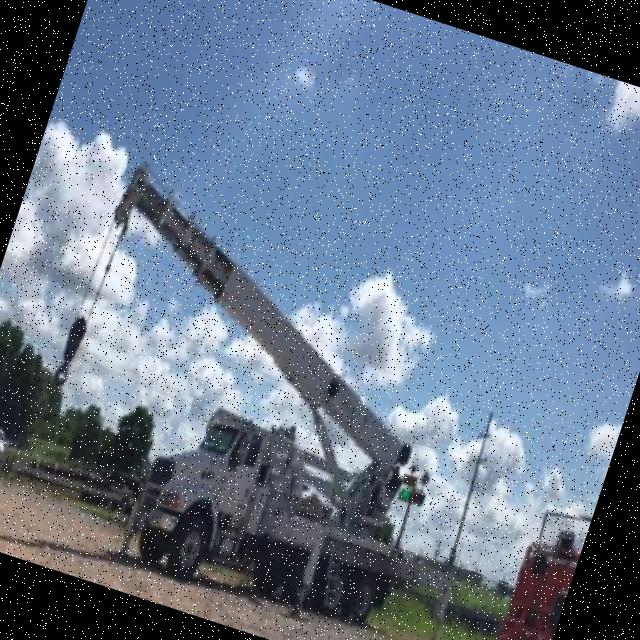Mobile Crane: (13, 166, 547, 640)
